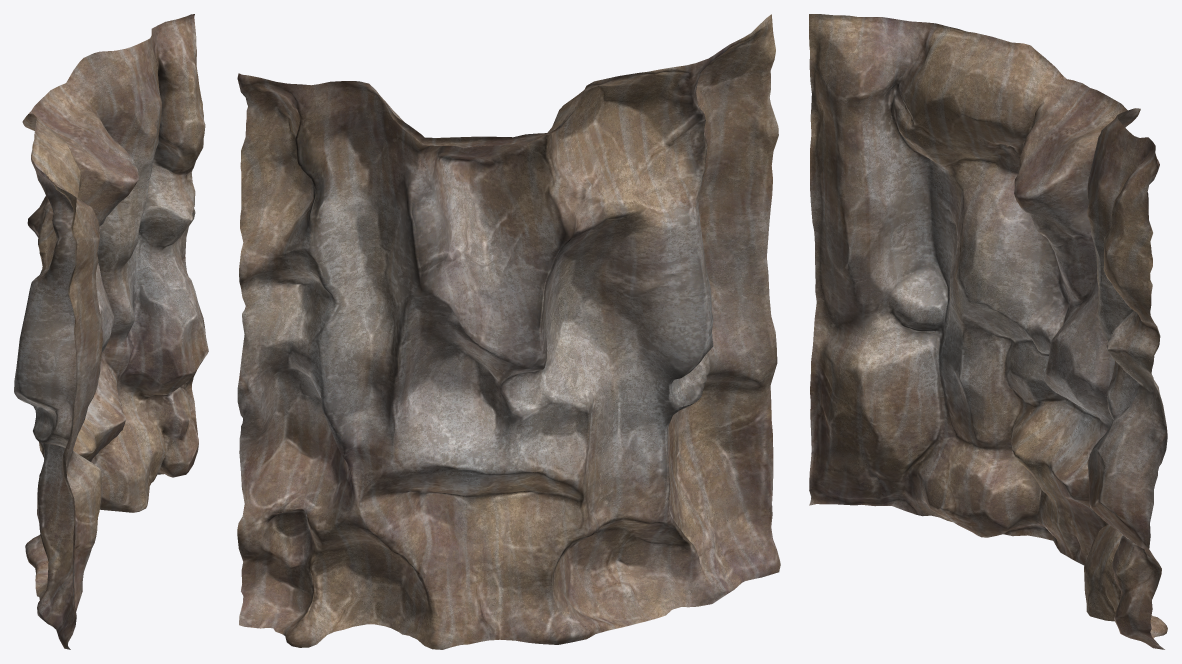
File: cave_ravine_wall_sand_02_concave.dae
3 renders of one model, left to right at view 1: azimuth 30°, elevation 25°; view 2: azimuth 150°, elevation 25°; view 3: azimuth 270°, elevation 25°, orthographic. The views are drawn at different scales.
Parts seen in each view (by area): view 1: wall_2_concave_90; view 2: wall_2_concave_90; view 3: wall_2_concave_90.
Boxes of the visible parts, x1,y1,x2,y2 form: wall_2_concave_90: (14,14,208,649); wall_2_concave_90: (237,14,780,649); wall_2_concave_90: (809,14,1167,649).
Size of what is drawn, in the model's own units: 2.67 by 4.02 by 2.63.
